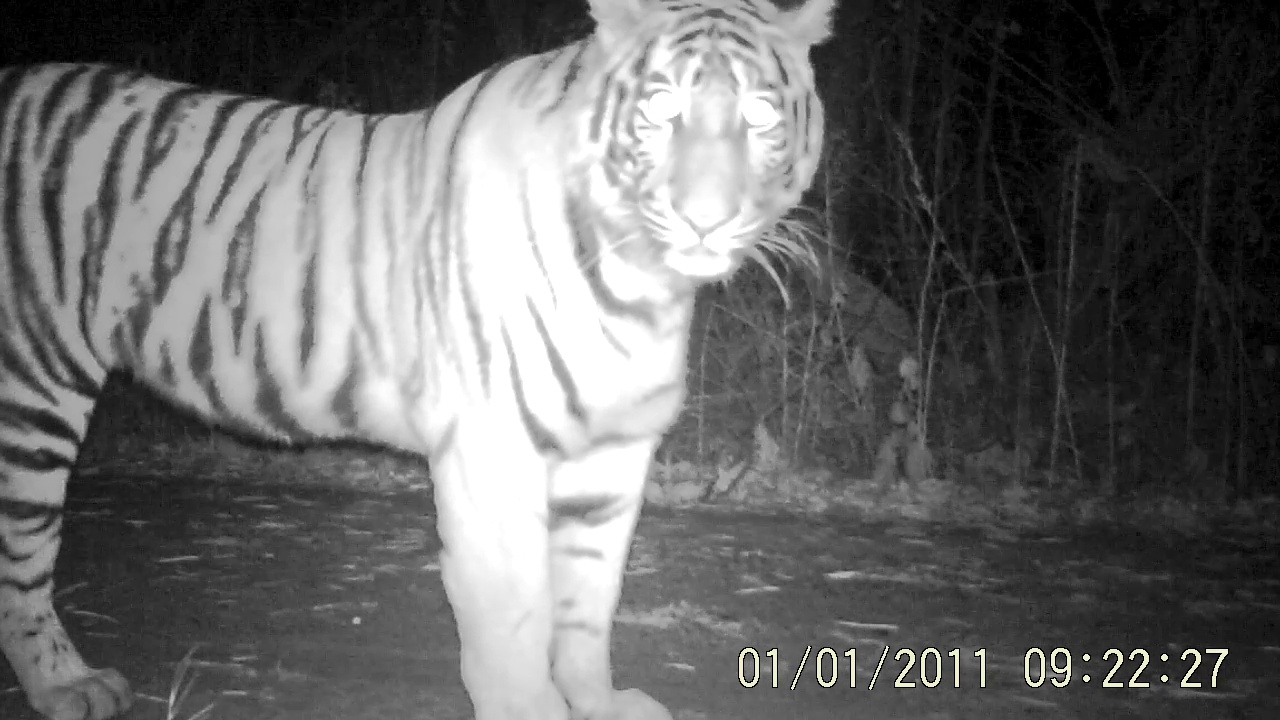Tiger: (1, 2, 856, 717)
